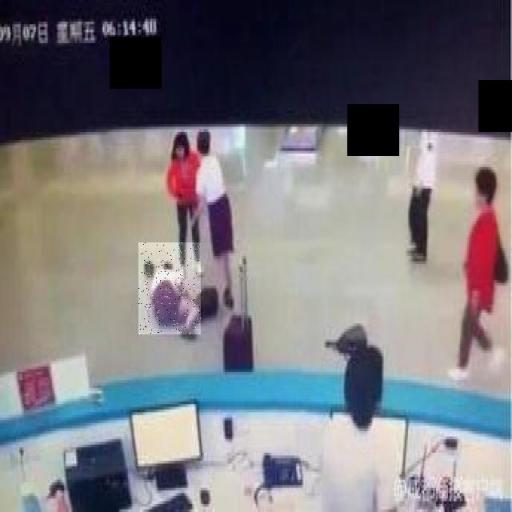Fall: (138, 243, 201, 335)
